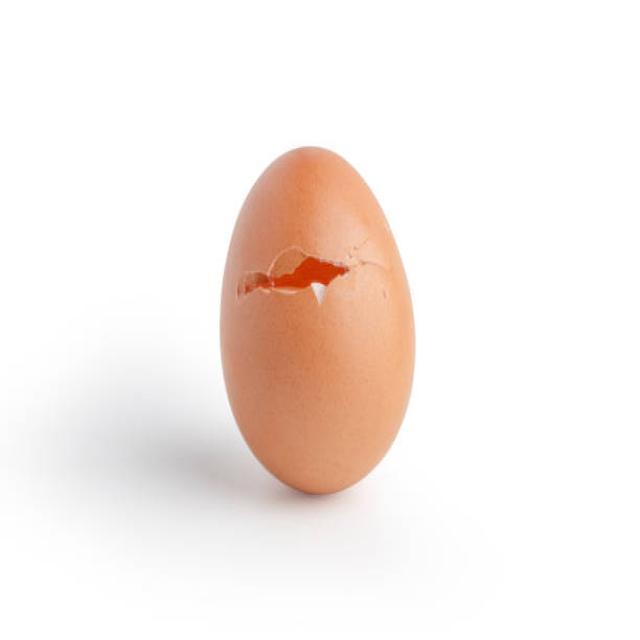Egg: (205, 130, 433, 510)
